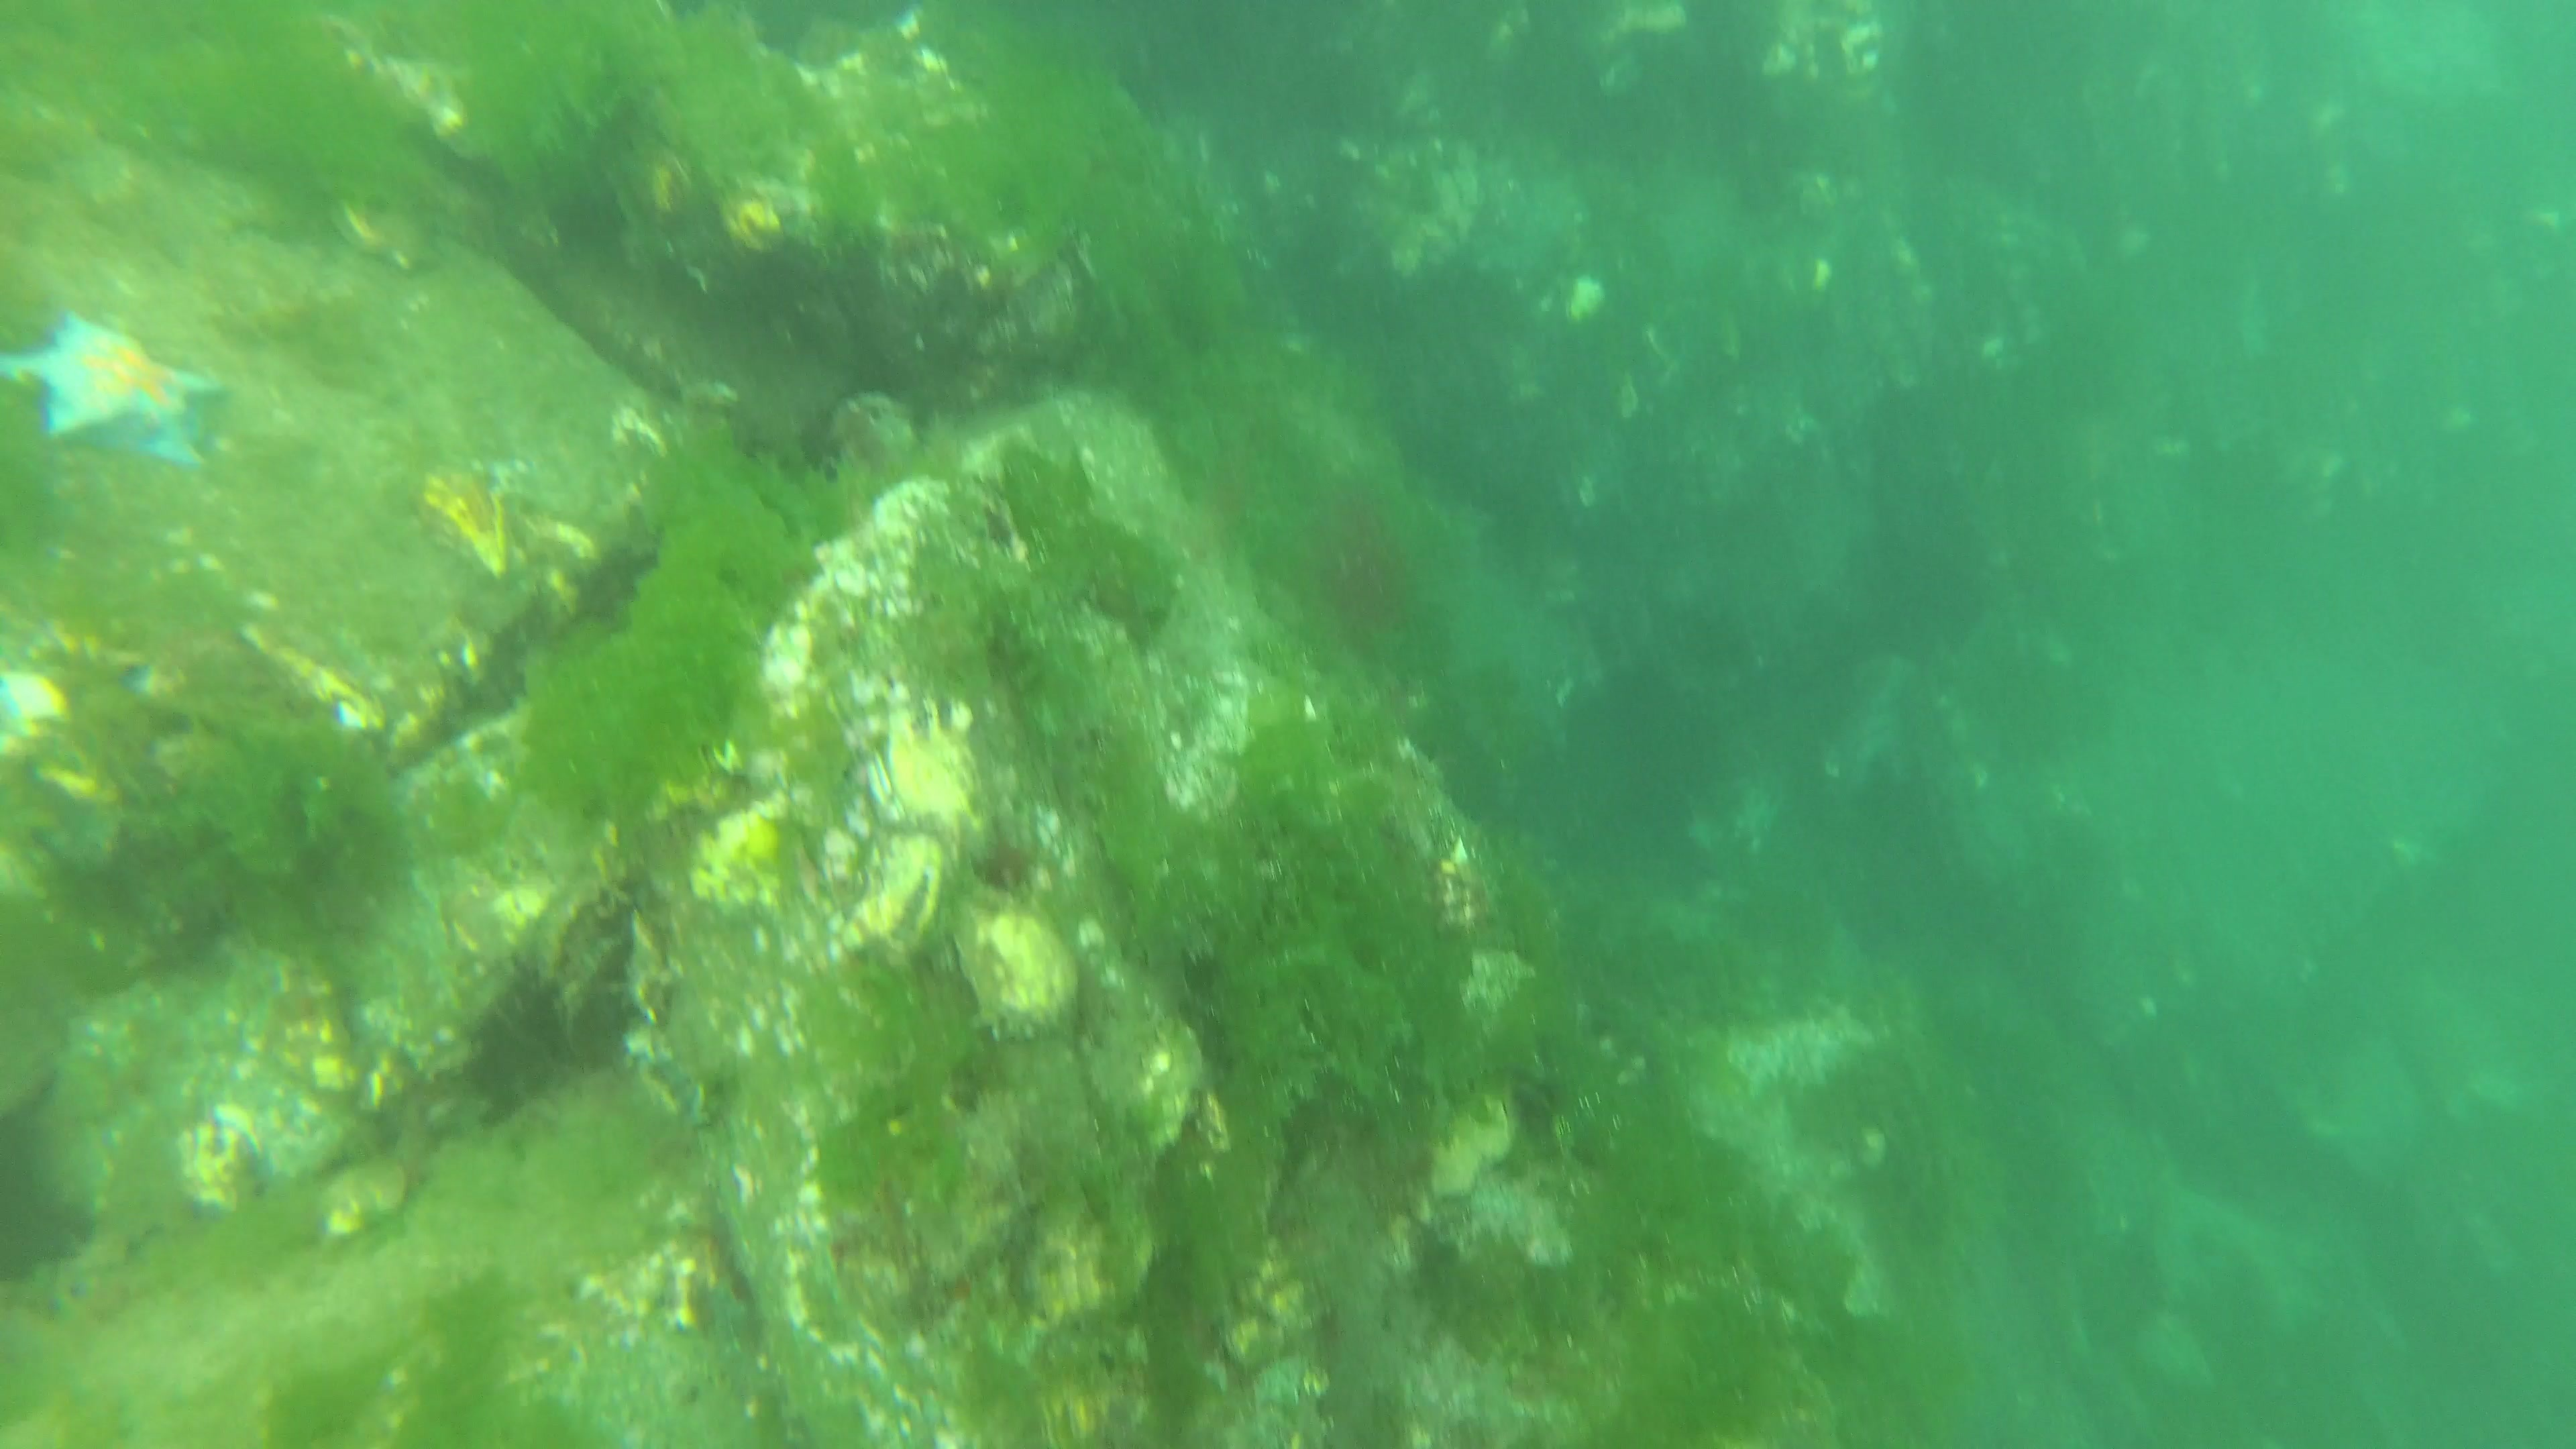echinus: (471, 962, 568, 1116)
starfish: (0, 306, 223, 469)
